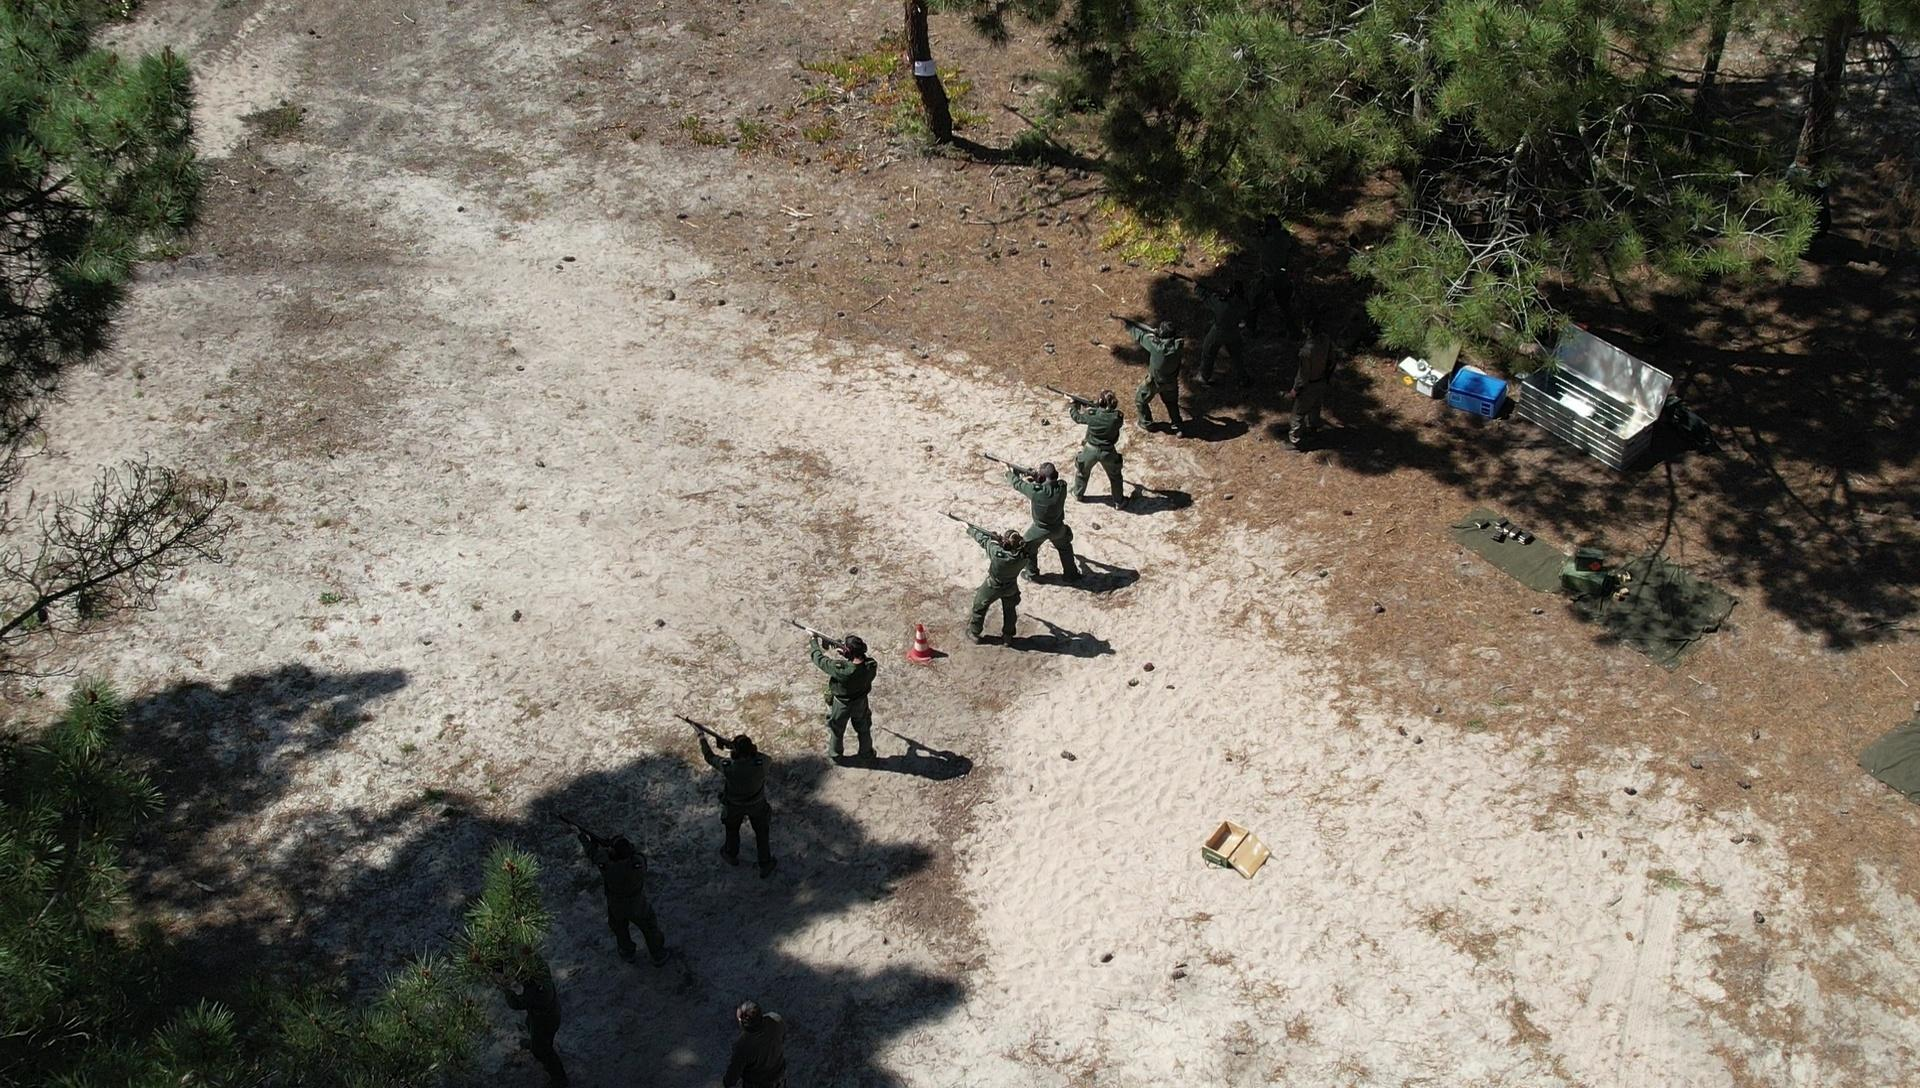Soldier: (690, 715, 802, 884), (796, 622, 905, 783), (571, 822, 675, 981), (1267, 302, 1354, 466), (1199, 256, 1292, 405), (959, 510, 1043, 666), (1009, 460, 1088, 605), (1055, 392, 1138, 529), (1120, 311, 1195, 434), (493, 960, 578, 1068), (711, 1012, 807, 1087)
